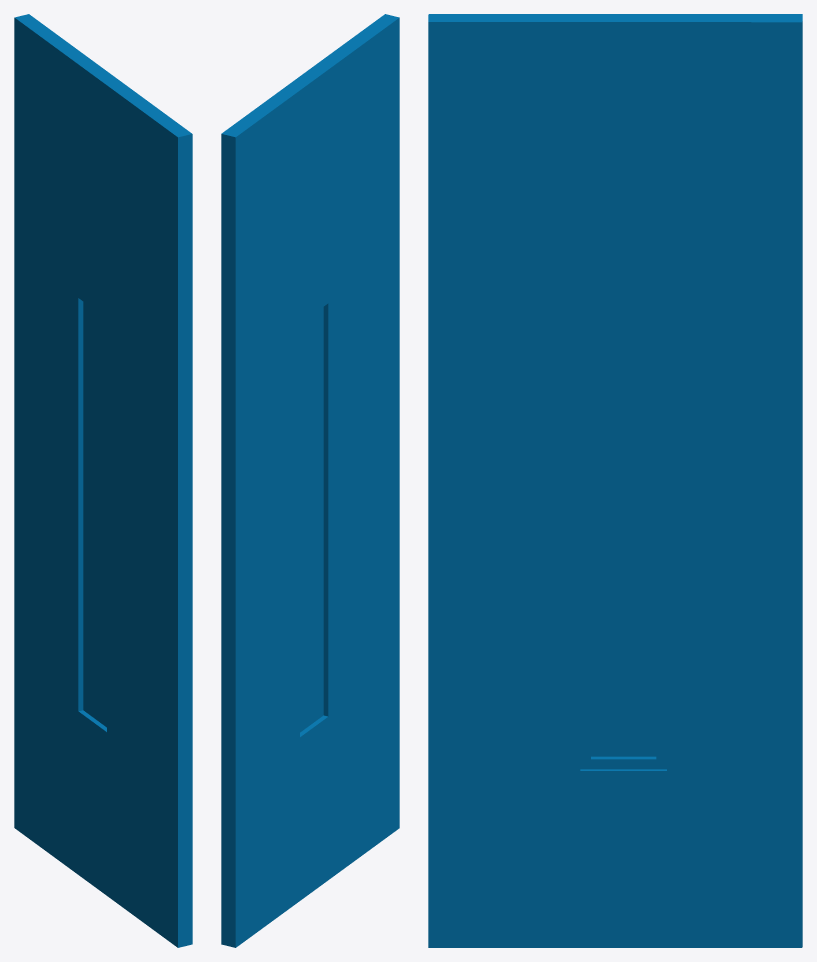
The model's file is MainDoor1bTransformed1.fbx.
3 renders of one model, left to right at view 1: azimuth 30°, elevation 25°; view 2: azimuth 150°, elevation 25°; view 3: azimuth 270°, elevation 25°, orthographic. The views are drawn at different scales.
Visible parts, largest first — view 1: HB_Door_Concept_Int_Dbl_Solid_VP_- DT-04 (Overswing):1810x24; view 2: HB_Door_Concept_Int_Dbl_Solid_VP_- DT-04 (Overswing):1810x24; view 3: HB_Door_Concept_Int_Dbl_Solid_VP_- DT-04 (Overswing):1810x24.
Boxes of the visible parts, x1,y1,x2,y2 form: HB_Door_Concept_Int_Dbl_Solid_VP_- DT-04 (Overswing):1810x24: (14, 14, 192, 947); HB_Door_Concept_Int_Dbl_Solid_VP_- DT-04 (Overswing):1810x24: (221, 14, 399, 947); HB_Door_Concept_Int_Dbl_Solid_VP_- DT-04 (Overswing):1810x24: (428, 14, 802, 947).
Bounding box in the file's own units: 0.0446 × 2.35 × 0.8615.
